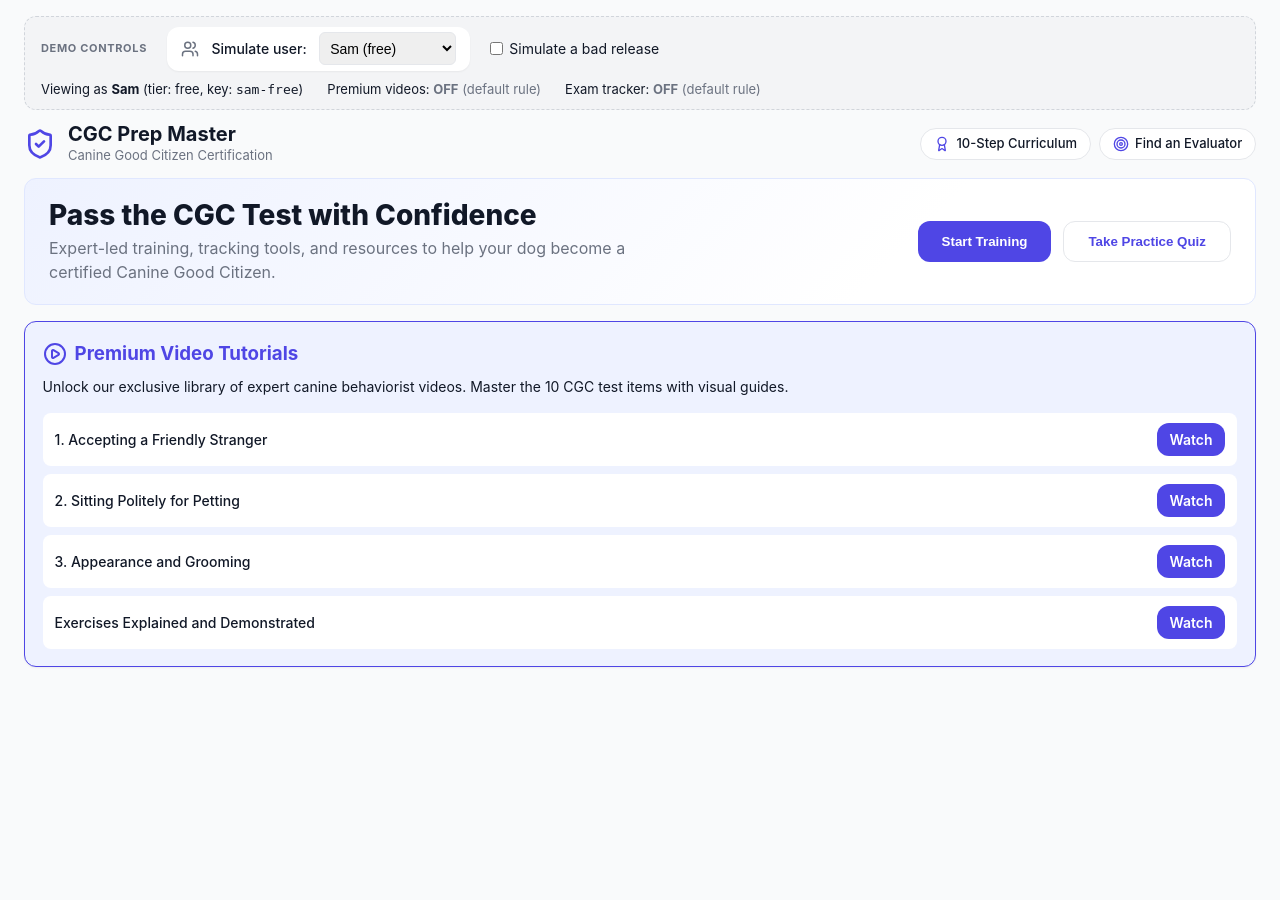
it: simulate a bad release › breaks only the flagged feature, reports the error, and recovers when unticked
Check: the heading "Premium Video Tutorials" is shown, box [43,342,298,366]
Click the checkbox labelled "Simulate a bad release" at (496, 49), box [490,42,503,55]
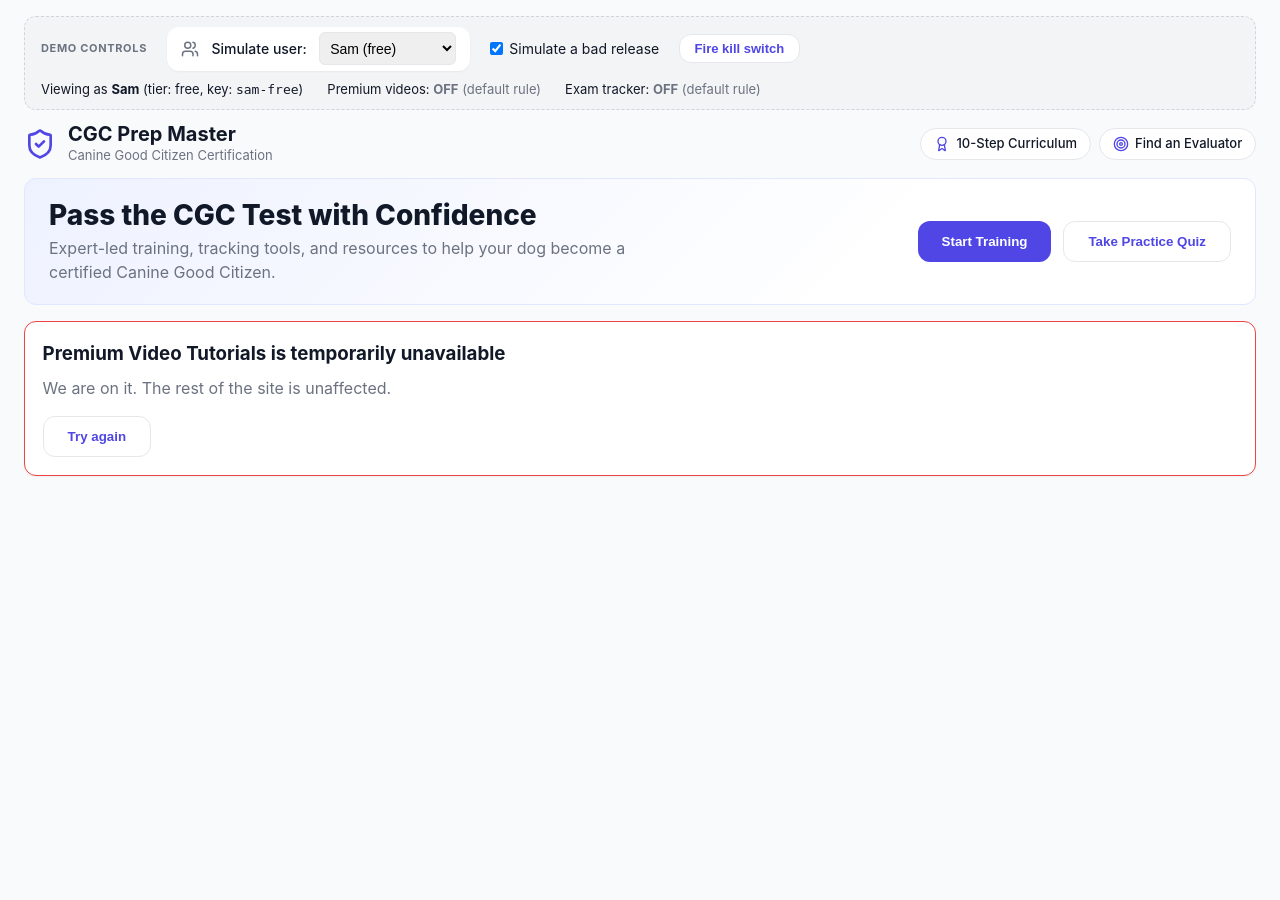
Check: the button "Start Training" is shown, box [918,221,1051,262]
Check: the message shows "temporarily unavailable", box [266,342,505,365]
Click the checkbox labelled "Simulate a bad release" at (496, 49), box [490,42,503,55]
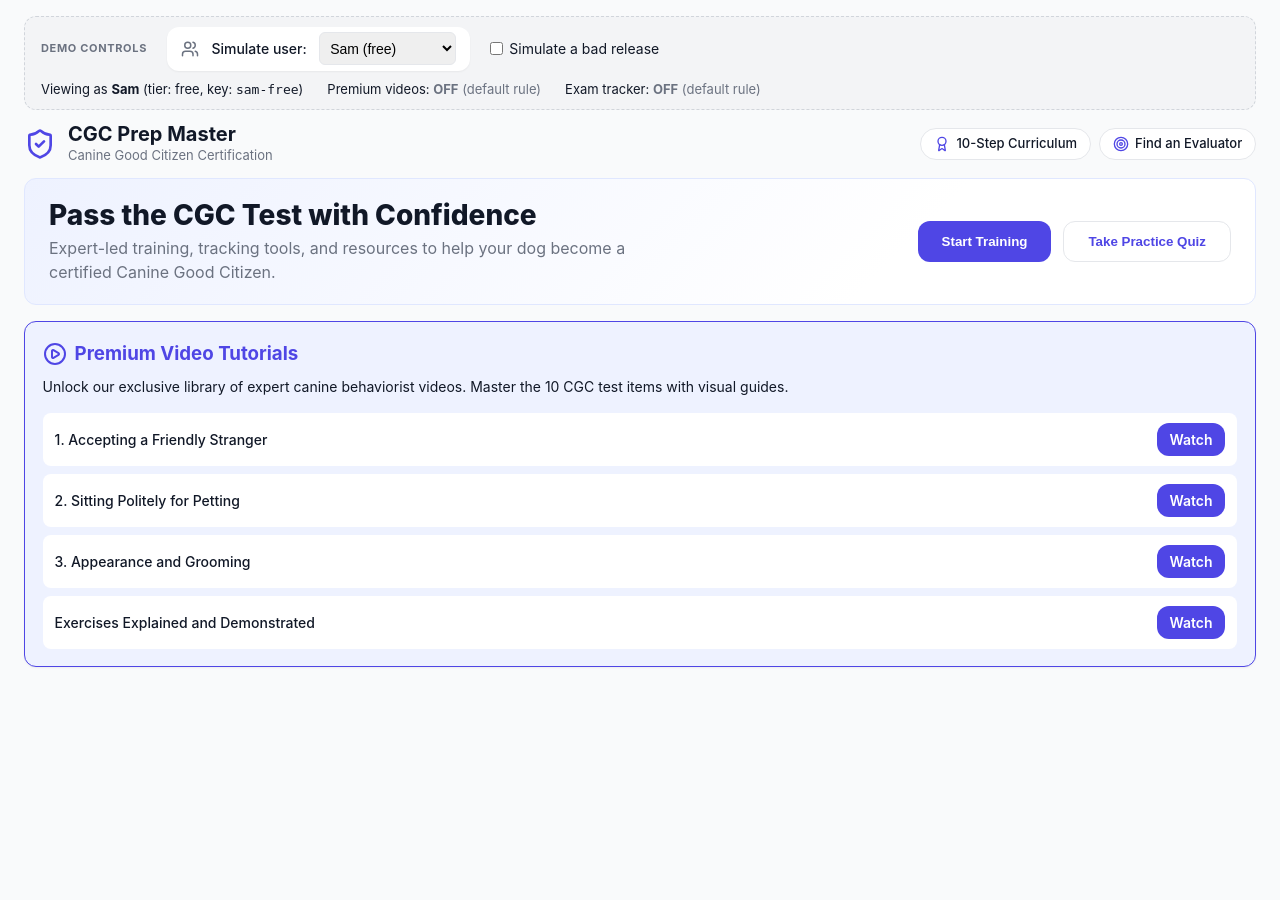
Check: the heading "Premium Video Tutorials" is shown, box [43,342,298,366]
Check: the message is gone
